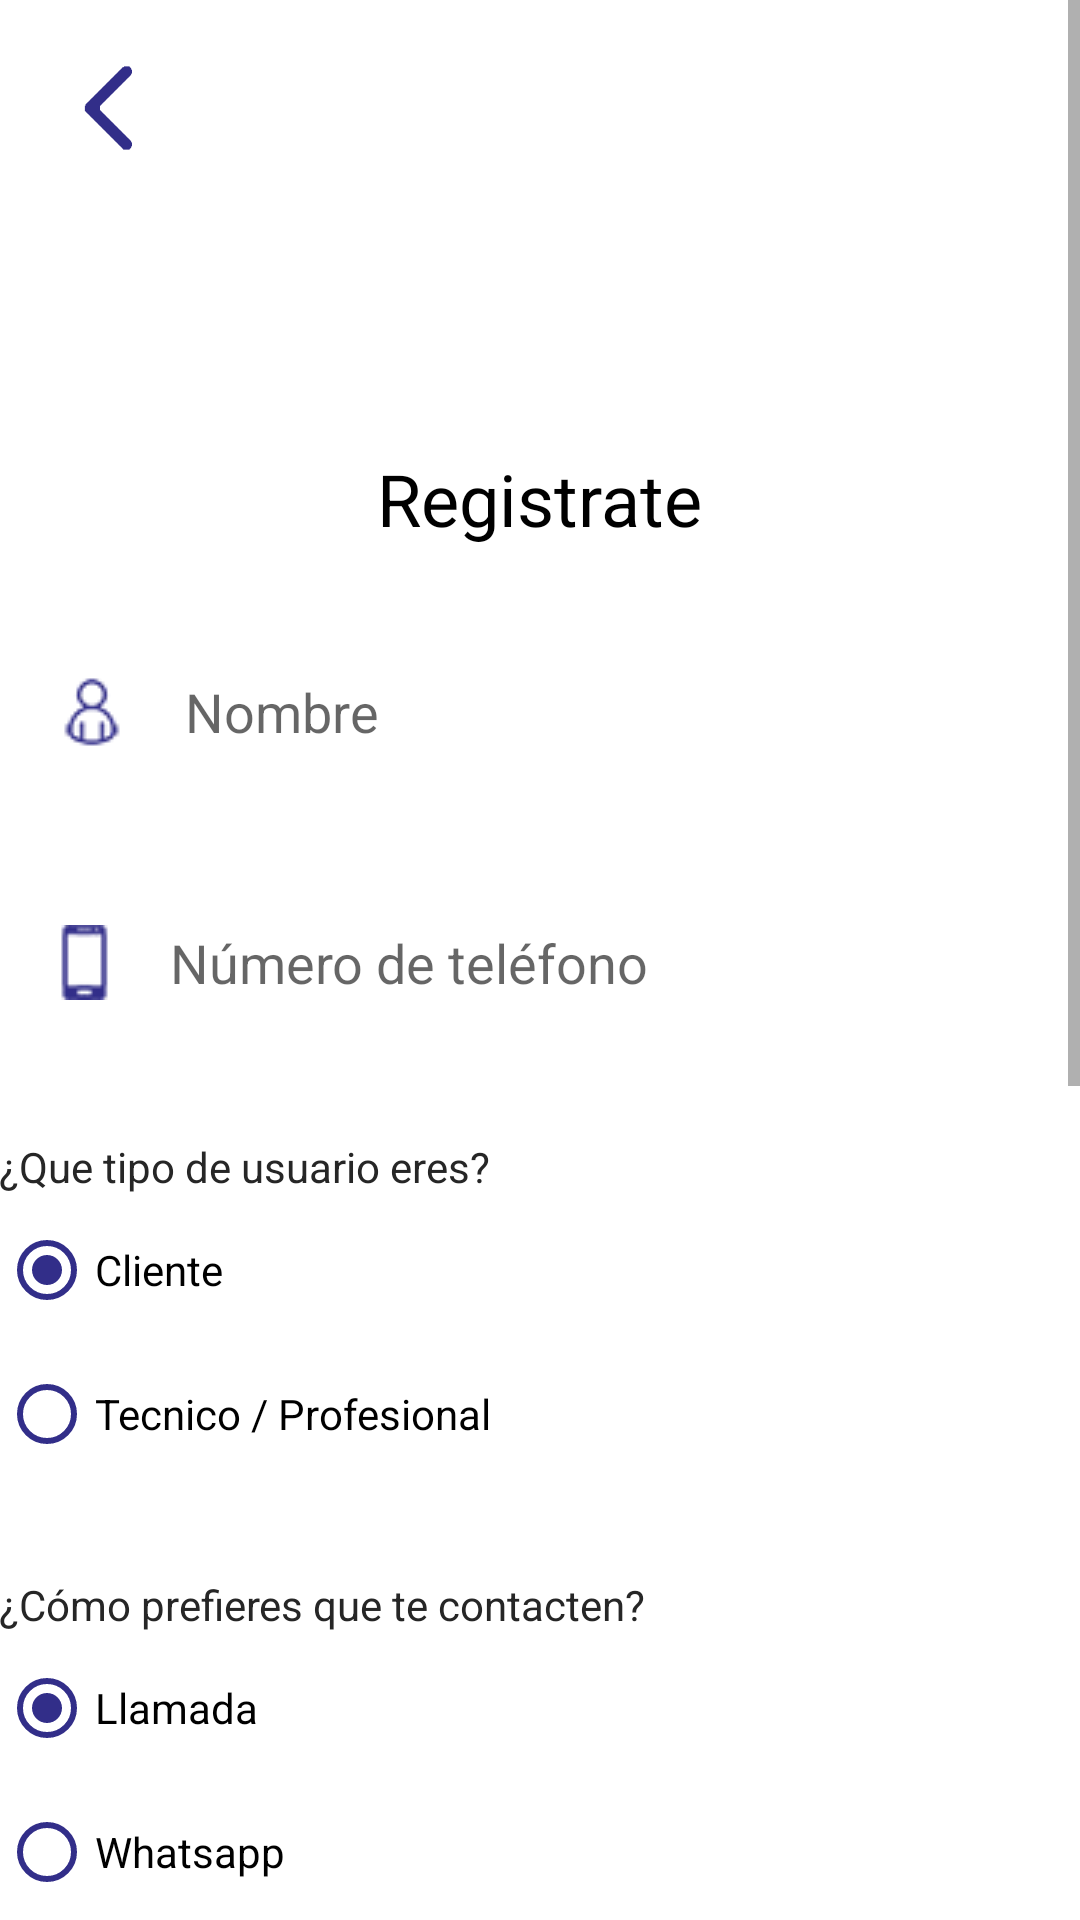

Named icons in this screenshot (1080px×1920px) and their bounding boxes, (x1, y1, x2, y2):
backblue: (84, 66, 132, 150)
